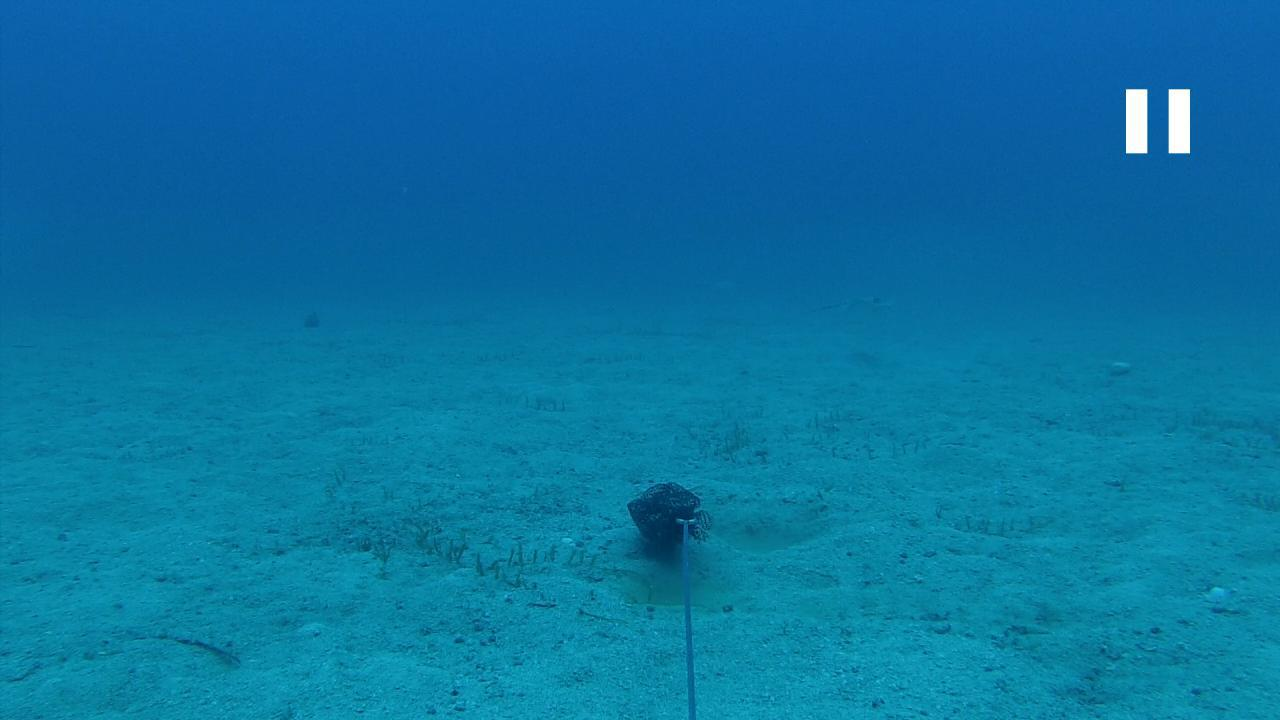bothus: (166, 624, 245, 662), (1198, 578, 1277, 608)
dasyatis: (808, 295, 892, 320)
